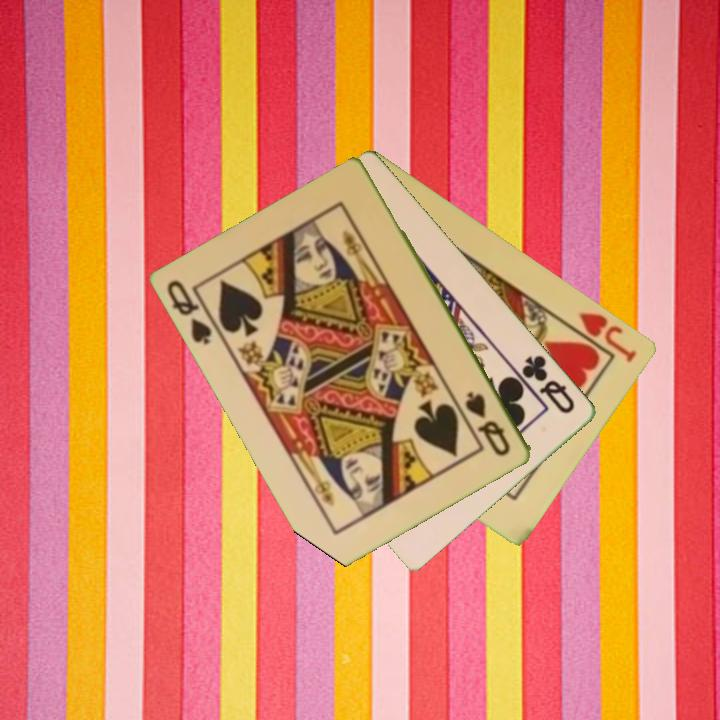Jh: (575, 308, 641, 365)
Qc: (518, 351, 579, 417)
Qs: (164, 276, 225, 349), (462, 387, 514, 460)
